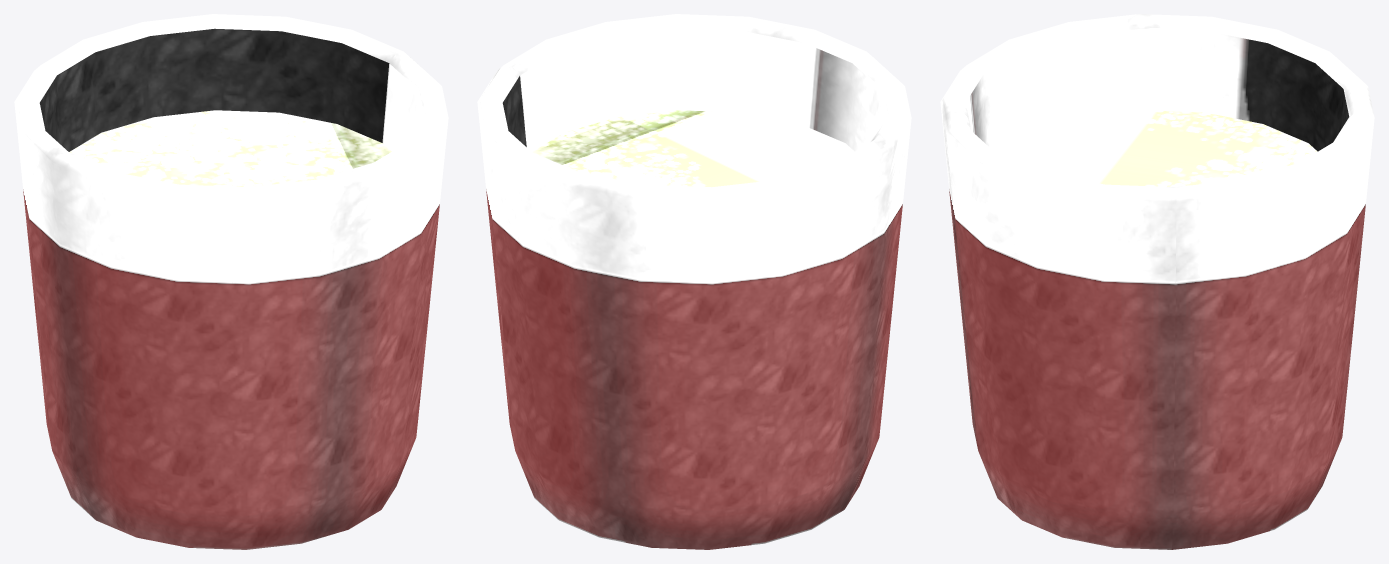
Rendered from SM_TeaCup_Full.fbx.
The picture shows the model from 3 angles, left to right: view 1: azimuth 30°, elevation 25°; view 2: azimuth 150°, elevation 25°; view 3: azimuth 270°, elevation 25°; orthographic projection.
Parts seen in each view (by area): view 1: SM_TeaCup_Full_LOD0; view 2: SM_TeaCup_Full_LOD0; view 3: SM_TeaCup_Full_LOD0.
Boxes of the visible parts, x1,y1,x2,y2 form: SM_TeaCup_Full_LOD0: (14,14,448,549); SM_TeaCup_Full_LOD0: (477,14,911,549); SM_TeaCup_Full_LOD0: (940,14,1374,549).
Size of the model in its own units: 7.98 by 7.98 by 8.
